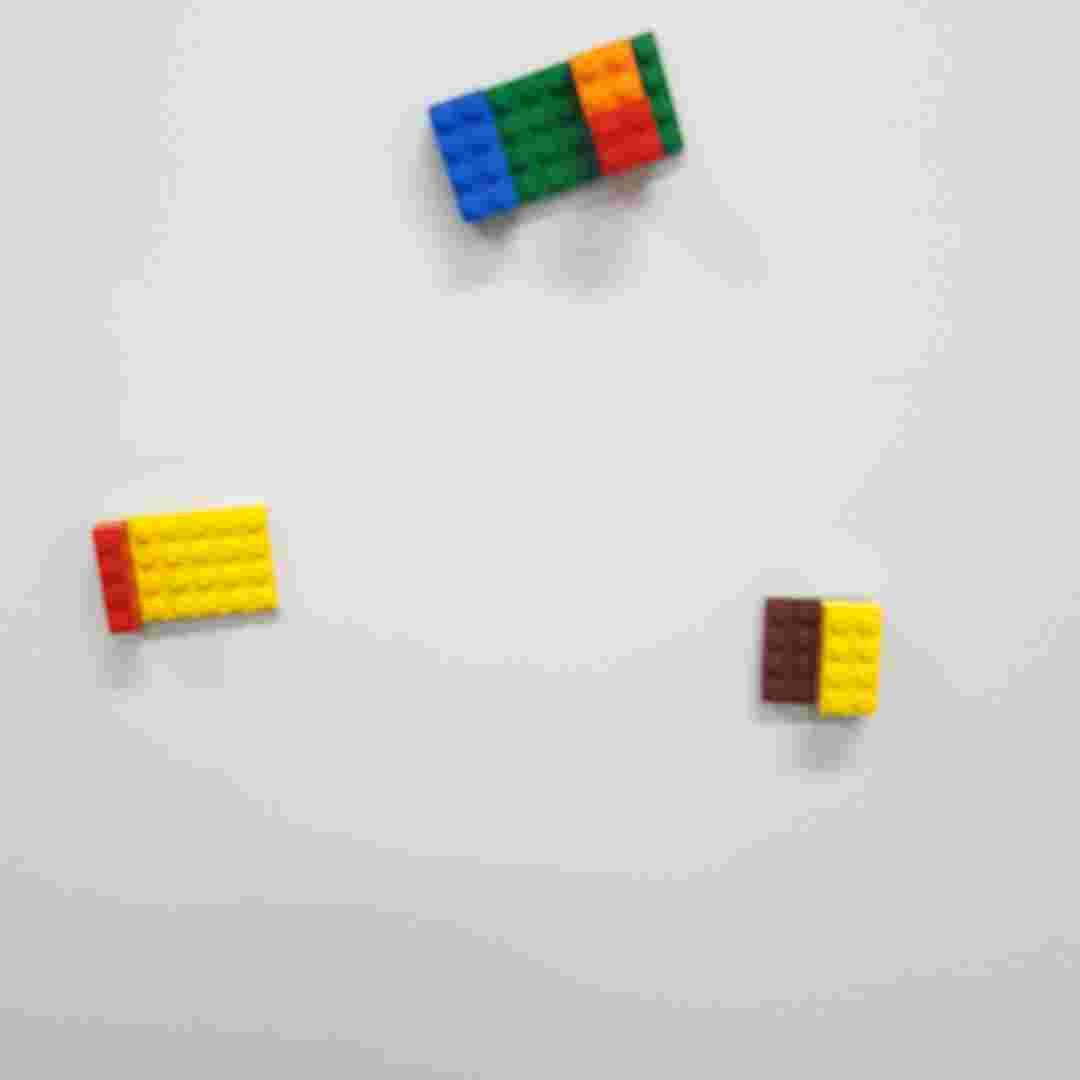LEGO: (428, 29, 690, 231), (89, 505, 285, 627), (757, 590, 886, 730)
